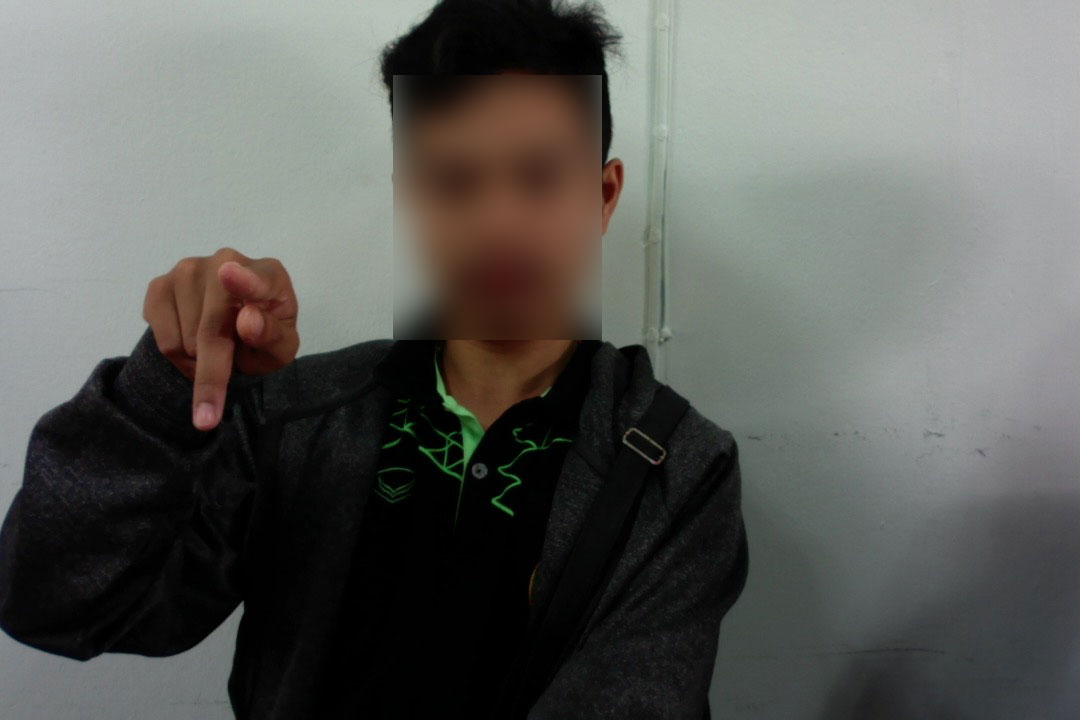por: (131, 243, 312, 441)
